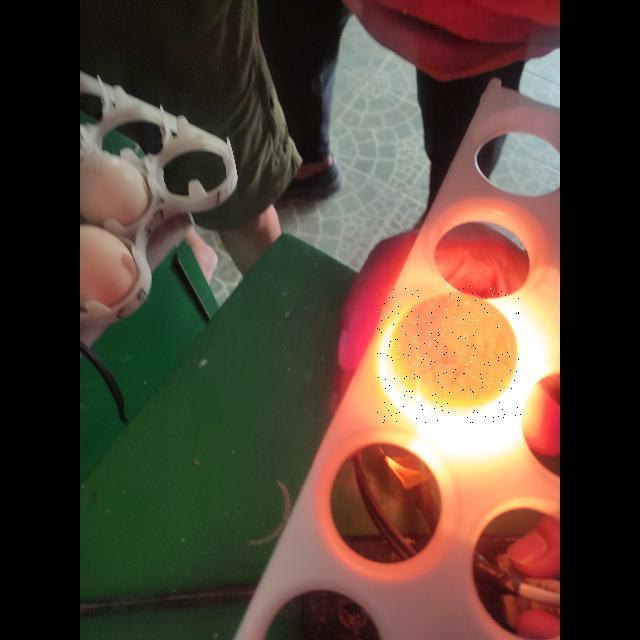Infertile: (377, 287, 521, 423)
